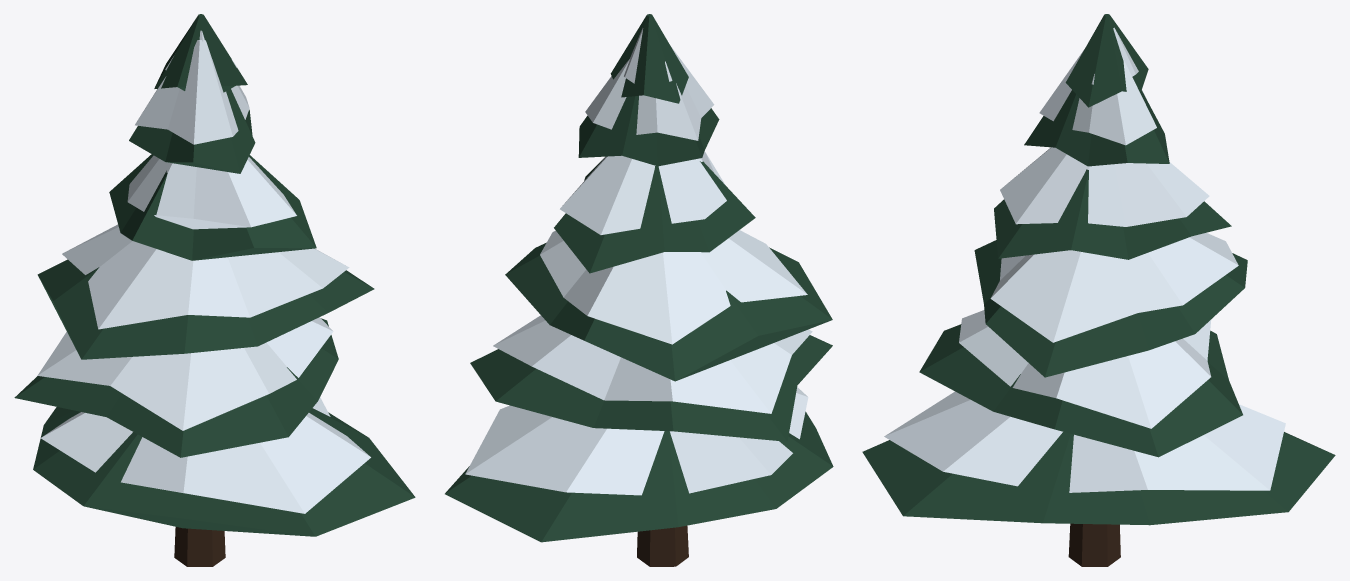
Rendered from Station_Pine_4_0_0.fbx.
The picture shows the model from 3 angles, left to right: view 1: azimuth 30°, elevation 25°; view 2: azimuth 150°, elevation 25°; view 3: azimuth 270°, elevation 25°; orthographic projection.
Parts seen in each view (by area): view 1: Station_Pine_4_0_0; view 2: Station_Pine_4_0_0; view 3: Station_Pine_4_0_0.
Boxes of the visible parts, x1,y1,x2,y2 form: Station_Pine_4_0_0: (14, 14, 415, 566); Station_Pine_4_0_0: (445, 14, 833, 566); Station_Pine_4_0_0: (862, 14, 1335, 566).
Bounding box in the file's own units: 366 × 600 × 472.
